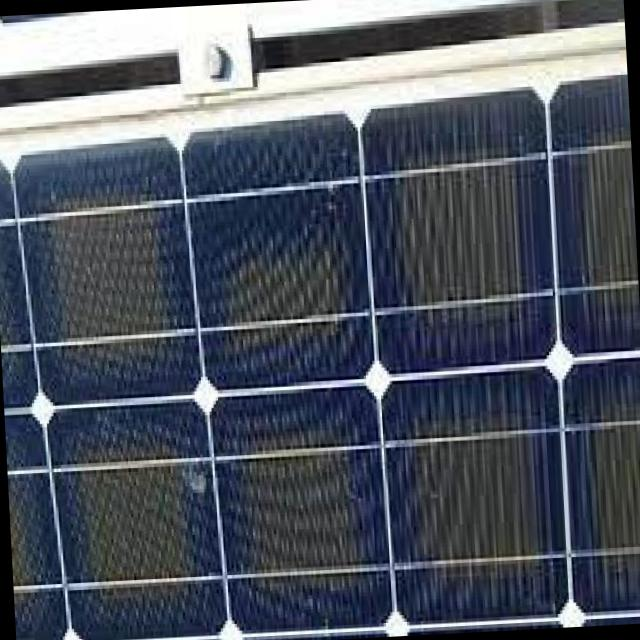faulty: (26, 141, 561, 640)
